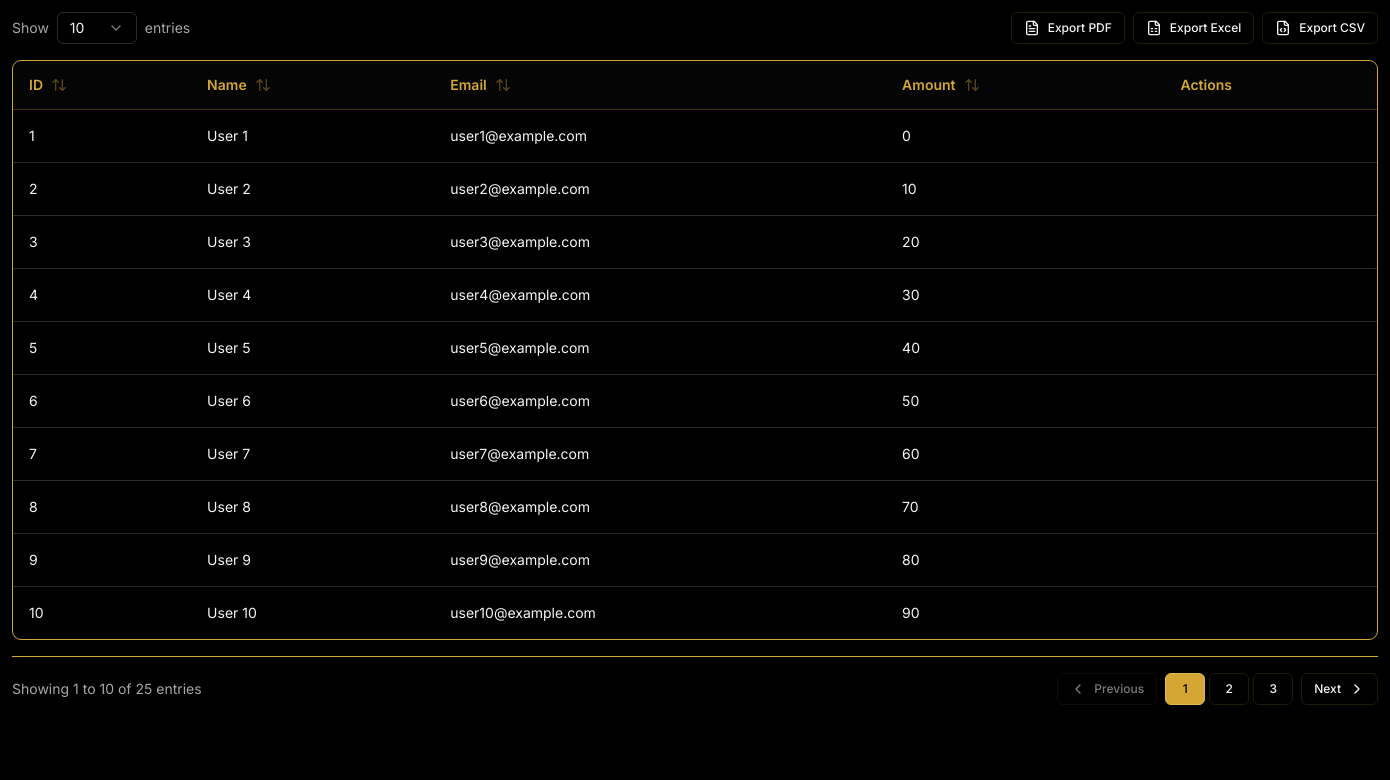
Scenario: DataTable › navigates to next page when next button is clicked
Step 1. Click the button with test id "button-next-page" → (1340, 688), box [1301,672,1378,704]
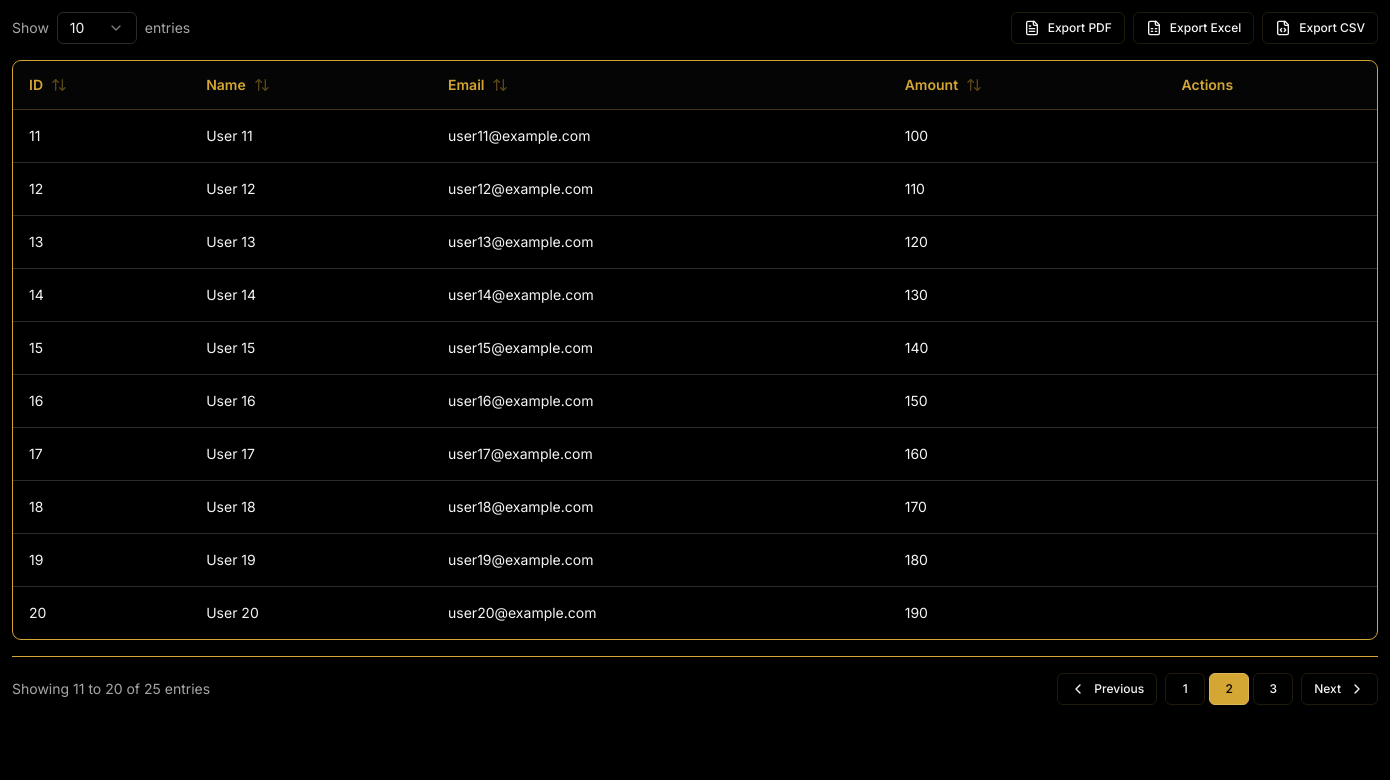
Expected: the text "Showing 11 to 20 of 25 entries" is shown, [12,678,210,698]
